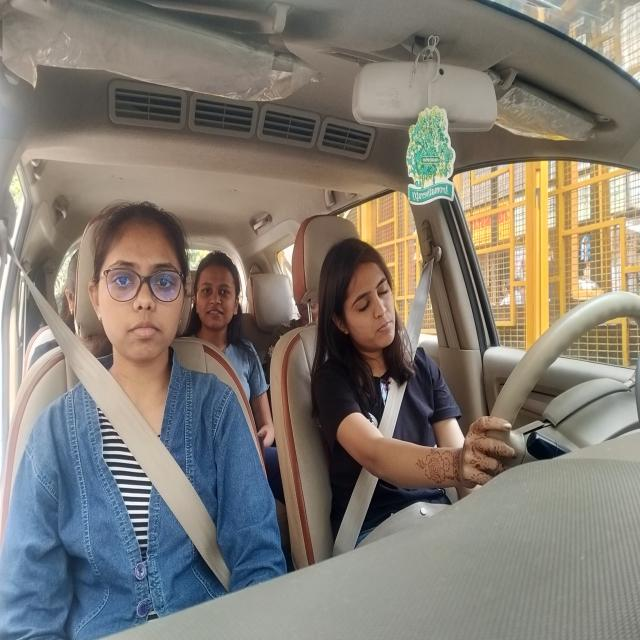drowsy: (318, 240, 399, 359)
person: (88, 200, 192, 372), (194, 242, 242, 335)
